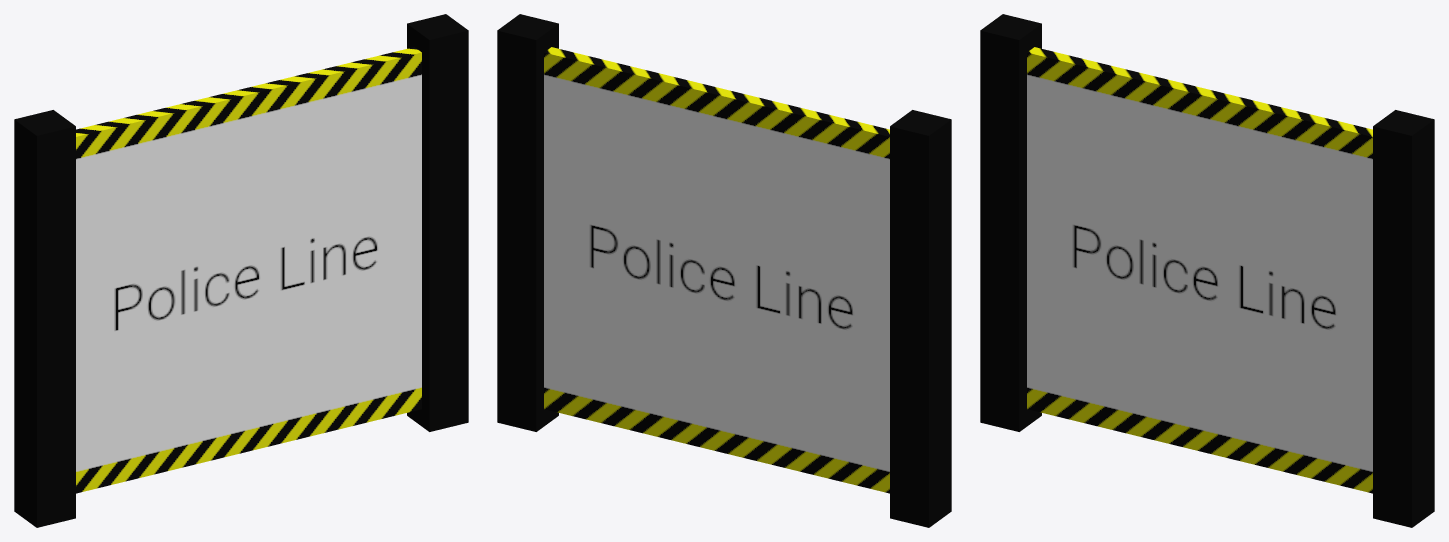
File: VOAL_RiotBarrier.fbx
The picture shows the model from 3 angles, left to right: view 1: azimuth 30°, elevation 25°; view 2: azimuth 150°, elevation 25°; view 3: azimuth 330°, elevation 25°; orthographic projection.
Parts seen in each view (by area): view 1: VOAL_RiotBarrier; view 2: VOAL_RiotBarrier; view 3: VOAL_RiotBarrier.
Boxes of the visible parts, x1,y1,x2,y2 form: VOAL_RiotBarrier: (14, 14, 468, 527); VOAL_RiotBarrier: (497, 14, 951, 527); VOAL_RiotBarrier: (980, 14, 1434, 527).
Bounding box in the file's own units: 440 × 382 × 40.
